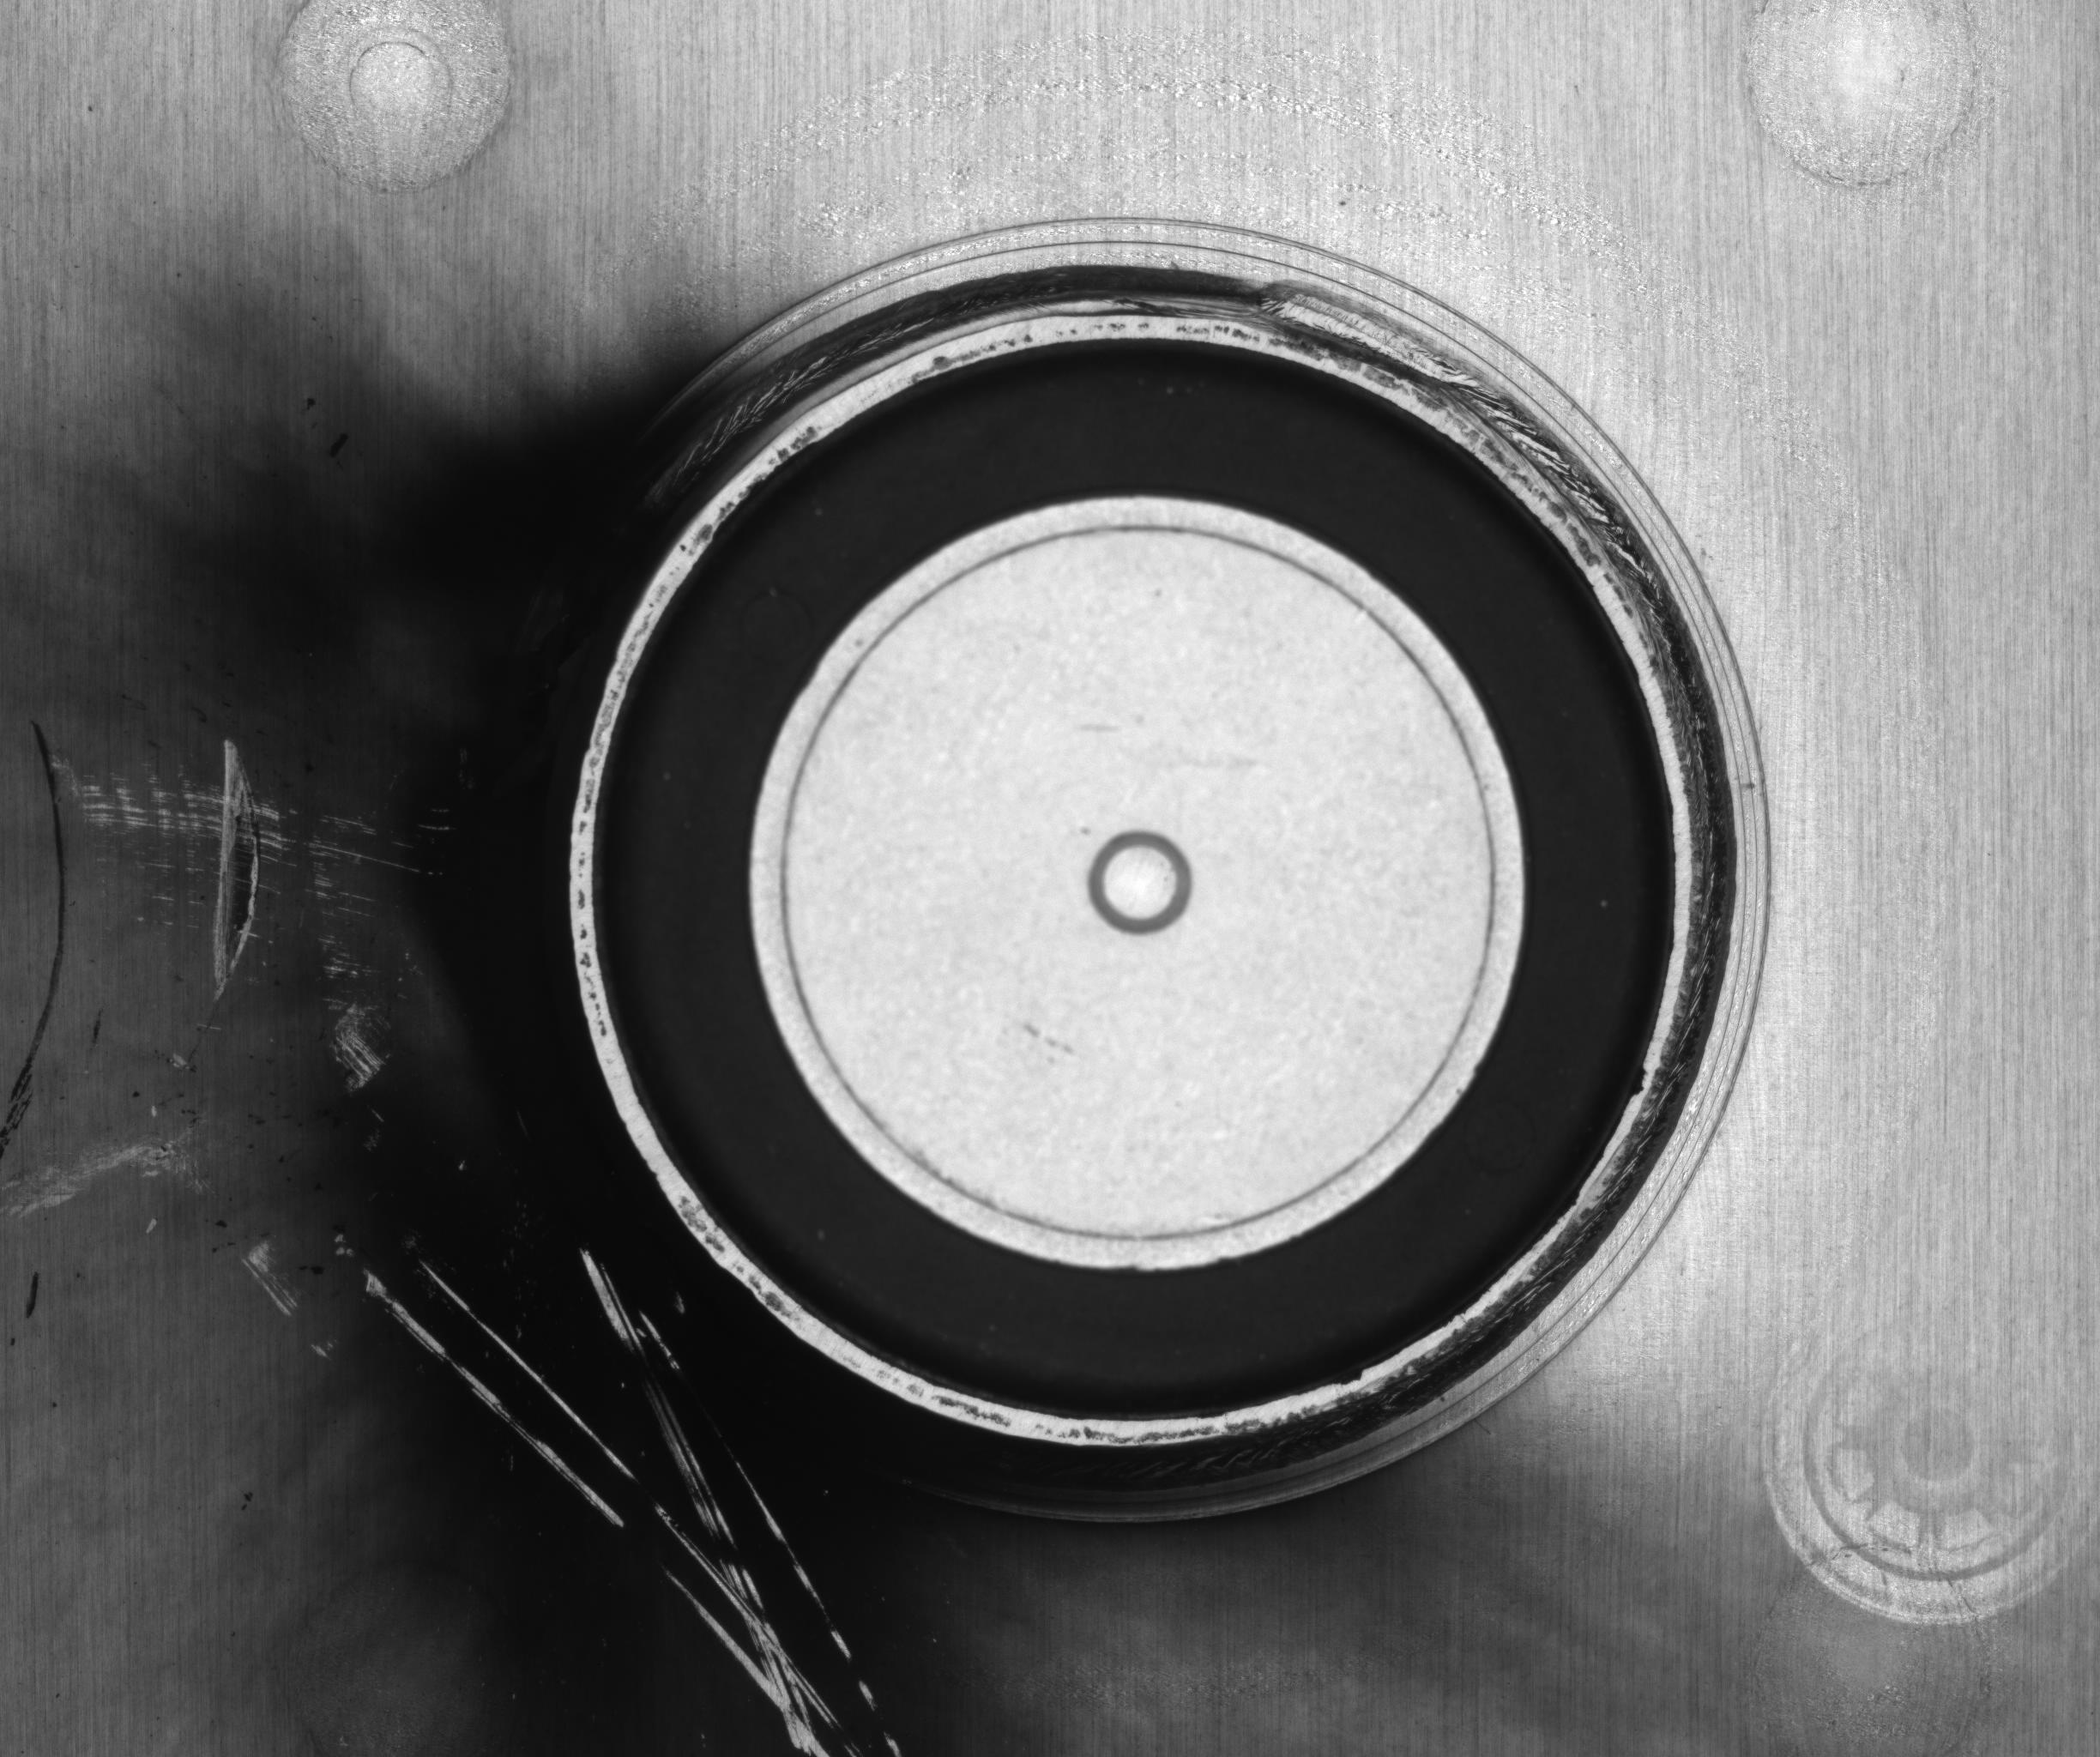burn: (140, 382, 1415, 1691)
